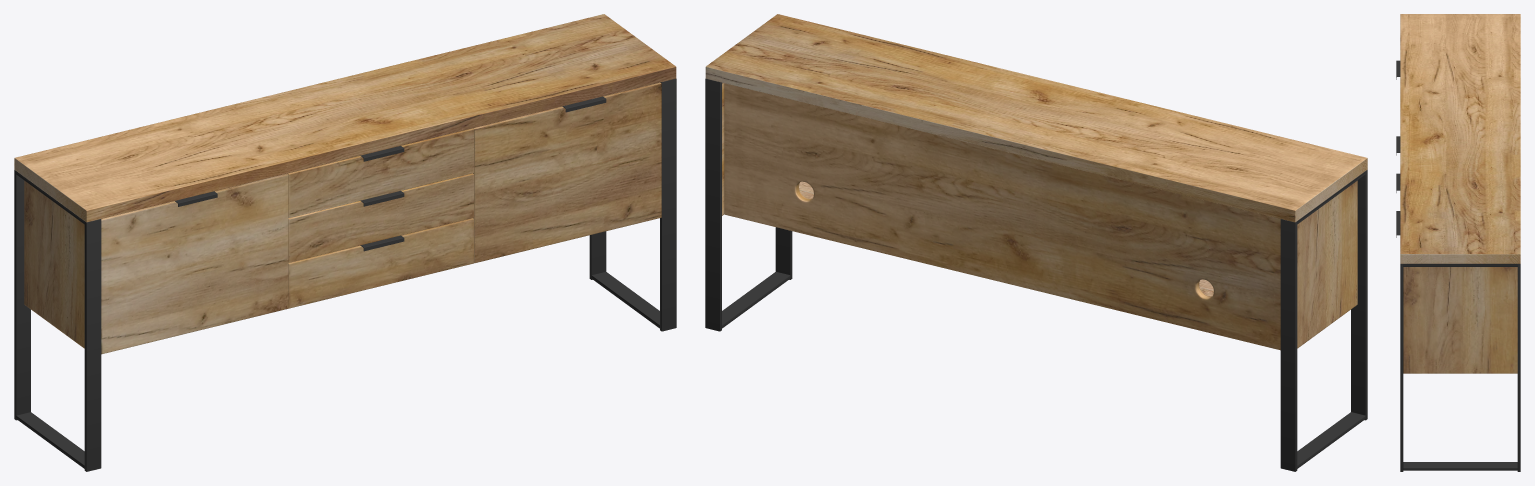
3 views of the same model, side by side, from view 1: azimuth 30°, elevation 25°; view 2: azimuth 150°, elevation 25°; view 3: azimuth 270°, elevation 25° (orthographic). The views are drawn at different scales.
Visible parts, largest first — view 1: B07TR659G8; view 2: B07TR659G8; view 3: B07TR659G8.
Boxes of the visible parts, left/top/right/bottom form: B07TR659G8: left=14, top=14, right=676, bottom=471; B07TR659G8: left=705, top=14, right=1367, bottom=471; B07TR659G8: left=1396, top=14, right=1520, bottom=471.
Size of the model in its own units: 1.8 by 0.7621 by 0.3949.
1 material, 1 textured.
